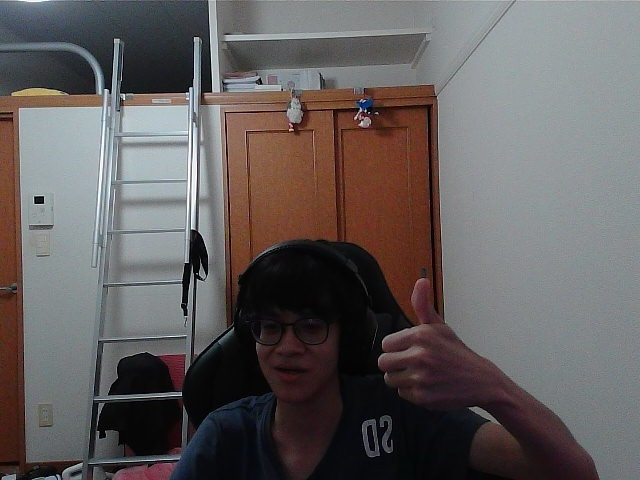thumb_up: (386, 284, 481, 396)
